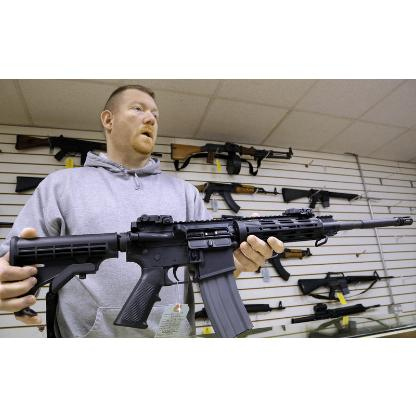gun: (6, 208, 414, 336), (163, 138, 289, 166), (16, 127, 106, 163), (178, 178, 278, 208), (294, 271, 390, 299), (280, 184, 362, 208)
